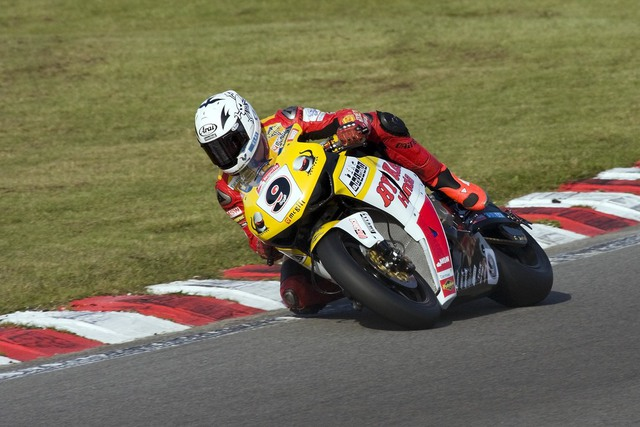helmet: (185, 101, 264, 164)
